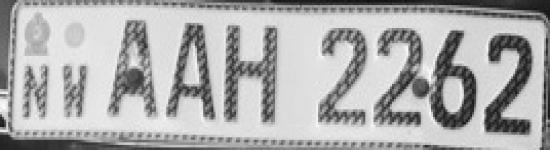2: (310, 24, 372, 130), (371, 23, 426, 129), (481, 31, 534, 136)
6: (429, 24, 478, 131)
A: (105, 16, 161, 125), (165, 18, 219, 128)
H: (224, 23, 280, 127)
N: (20, 64, 50, 121)
W: (56, 57, 93, 123)
